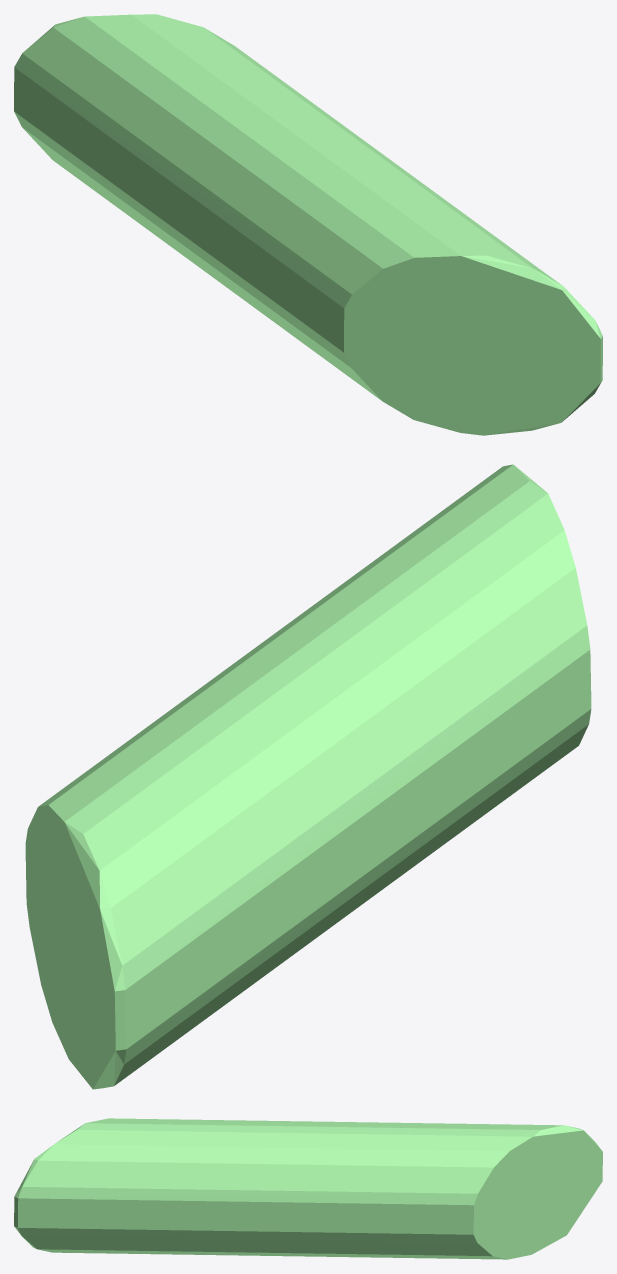
Rendered from palle_scrotali_buone_C_link3_respondable_coll_3.dae.
3 views of the same model, one above another, from view 1: azimuth 30°, elevation 25°; view 2: azimuth 150°, elevation 25°; view 3: azimuth 270°, elevation 25° (orthographic). The views are drawn at different scales.
Parts seen in each view (by area): view 1: Node_000002334E2464D0; view 2: Node_000002334E2464D0; view 3: Node_000002334E2464D0.
Part boxes in pixels (x1,y1,x2,y2): Node_000002334E2464D0: (14, 14, 602, 435); Node_000002334E2464D0: (25, 464, 591, 1089); Node_000002334E2464D0: (14, 1118, 602, 1259).
Size of the model in its own units: 0.1121 by 0.1126 by 0.4866.
